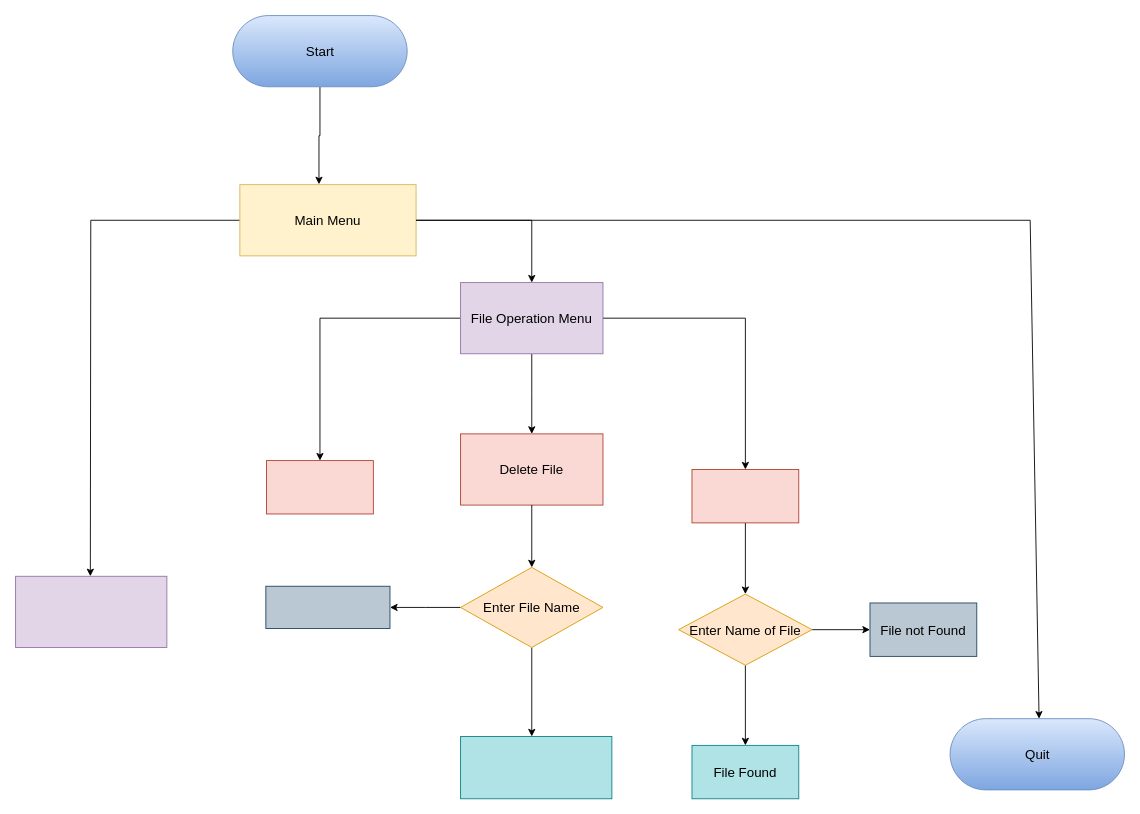
Image size: 1140x814. Some labels were removed from this diagram. The shapes that lost their labels are listed below. From the top down, each one's centre as x and y in pixels, then its label:
the point at 319,487: Create New
the point at 745,496: Search File
the point at 91,611: Display Files
the point at 327,607: Cannot delete your File
the point at 536,767: File Deleted Successfully
